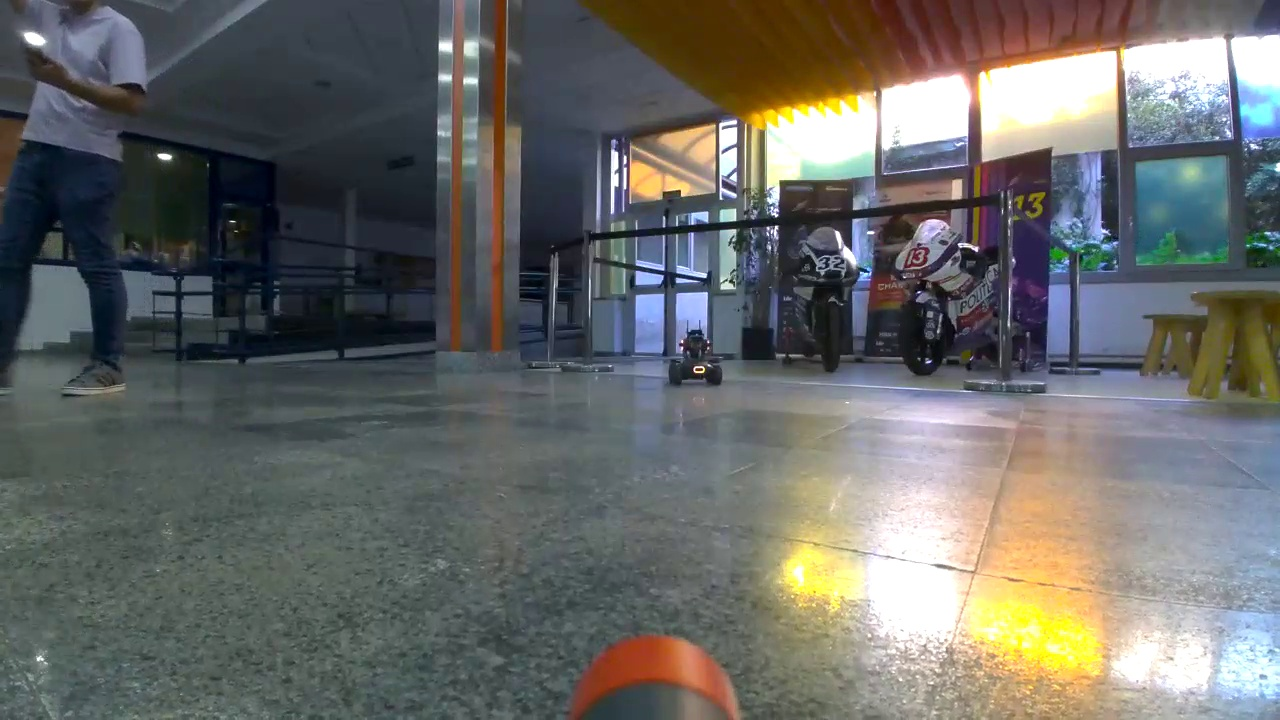robot: (670, 330, 722, 382)
